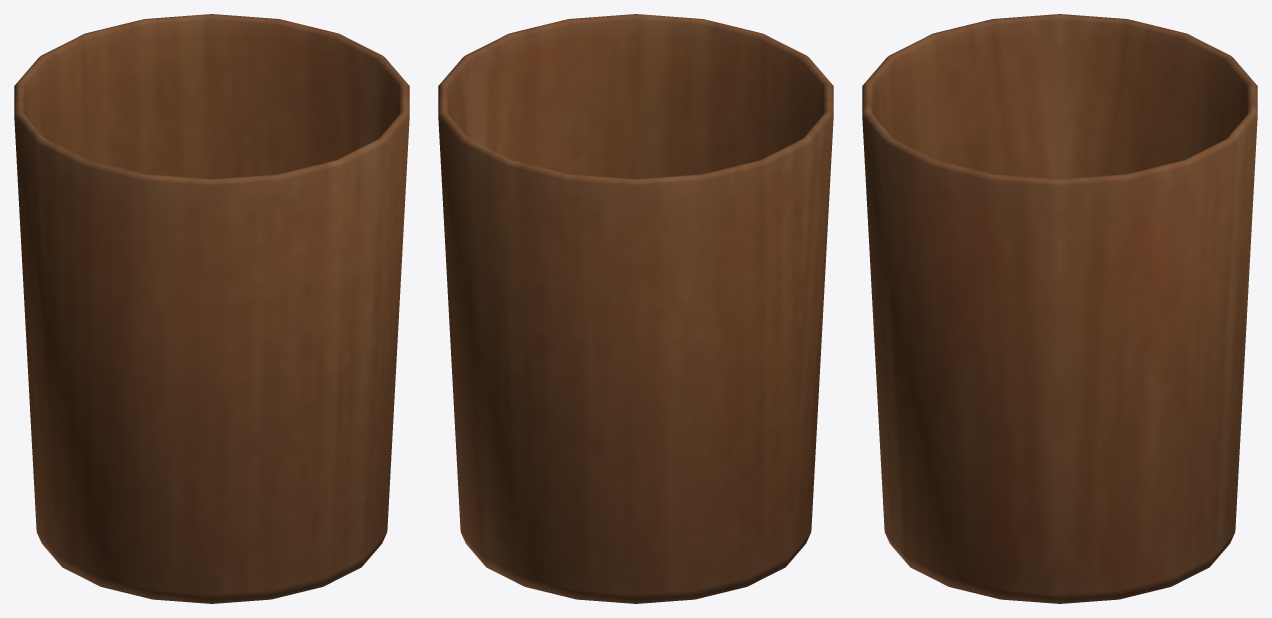
File: GardenTableWear01_18.FBX
3 views of the same model, side by side, from view 1: azimuth 30°, elevation 25°; view 2: azimuth 150°, elevation 25°; view 3: azimuth 270°, elevation 25° (orthographic).
Visible parts, largest first — view 1: GardenTableWear01_18; view 2: GardenTableWear01_18; view 3: GardenTableWear01_18.
Part boxes in pixels (x1,y1,x2,y2): GardenTableWear01_18: [14, 14, 409, 603]; GardenTableWear01_18: [438, 14, 833, 603]; GardenTableWear01_18: [862, 14, 1257, 603].
Size of what is drawn, in the model's own units: 0.1021 by 0.1228 by 0.1005.
